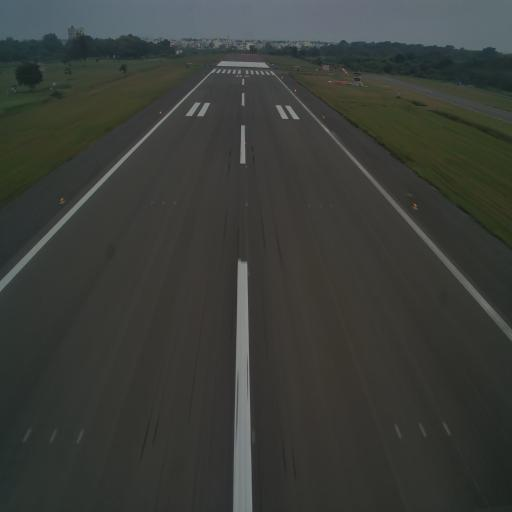off: (45, 424, 59, 446), (415, 419, 429, 441), (440, 417, 452, 437), (394, 422, 405, 442), (75, 427, 85, 446), (21, 428, 31, 446), (245, 267, 253, 281), (306, 200, 312, 211), (149, 198, 155, 208), (318, 202, 324, 212), (160, 200, 166, 207), (172, 199, 176, 209), (328, 203, 332, 211)
on: (59, 193, 65, 205), (411, 201, 418, 209), (245, 200, 250, 208)
